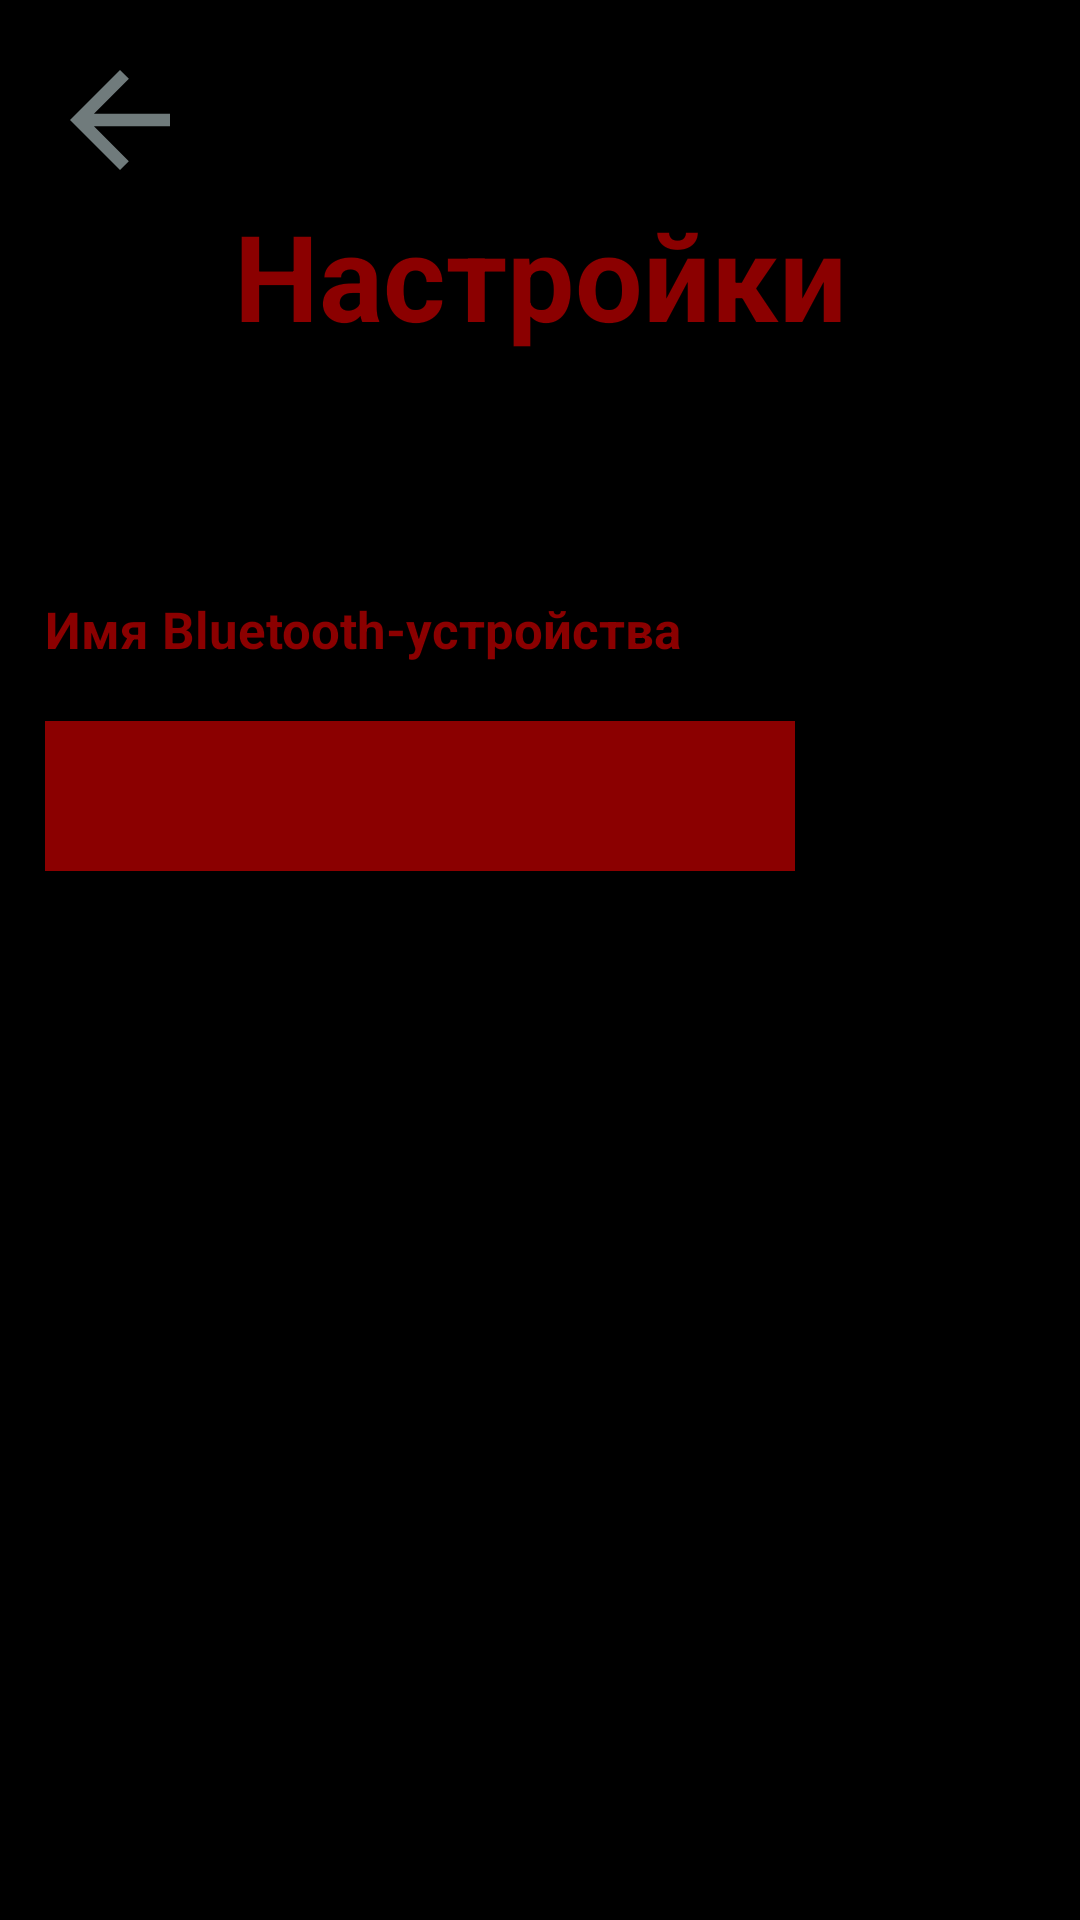

Icons on this 1080 x 1920 Android screen, each with its box as box=[x1, y1, x2, y2]:
Button for removing back: box=[70, 70, 170, 170]
